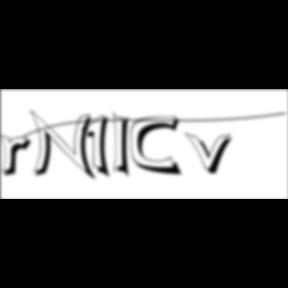1: (82, 114, 116, 182)
C: (131, 115, 186, 178)
I: (113, 110, 137, 182)
N: (30, 109, 100, 183)
r: (0, 134, 38, 180)
v: (185, 131, 239, 177)
